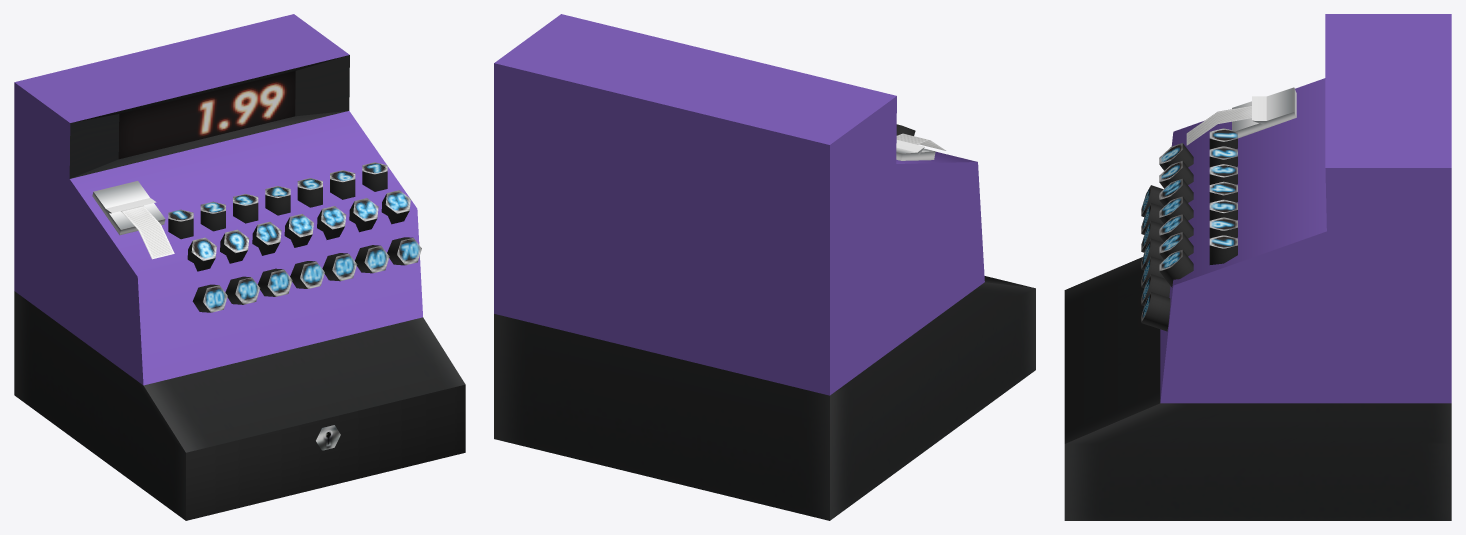
Rendered from Cash_Register_F.FBX.
3 renders of one model, left to right at view 1: azimuth 30°, elevation 25°; view 2: azimuth 150°, elevation 25°; view 3: azimuth 270°, elevation 25°, orthographic. The views are drawn at different scales.
Visible parts, largest first — view 1: Cash Register; view 2: Cash Register; view 3: Cash Register.
Boxes of the visible parts, x1,y1,x2,y2 form: Cash Register: (14,14,465,520); Cash Register: (494,14,1035,520); Cash Register: (1064,14,1451,520).
Bounding box in the file's own units: 110 × 117 × 117.
